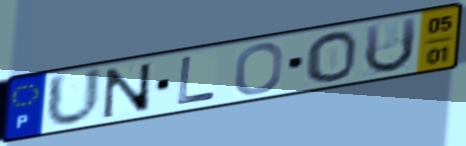L: (175, 55, 219, 107)
N: (101, 61, 154, 121)
O: (232, 41, 286, 97), (304, 30, 360, 84)
U: (44, 65, 105, 129), (361, 14, 420, 77)
